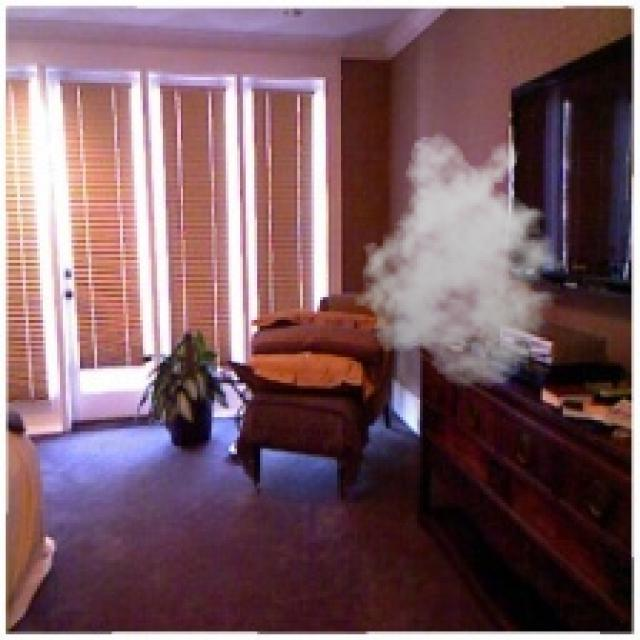Smoke: (348, 132, 580, 388)
